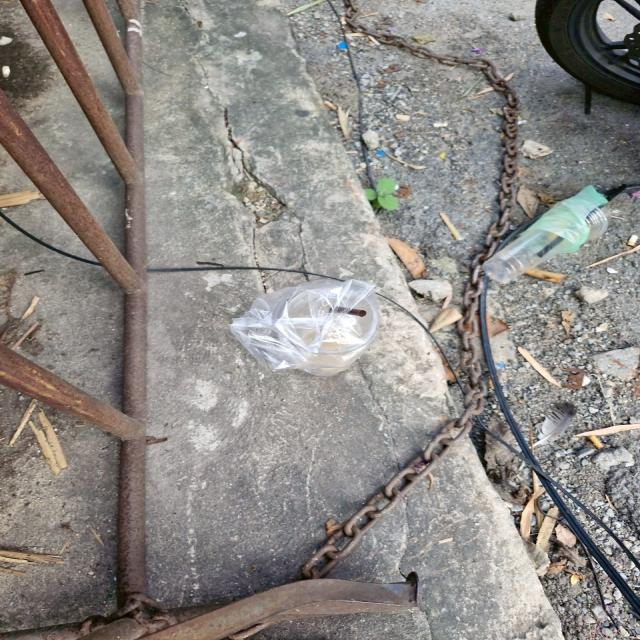plastic cup: (241, 277, 383, 381), (487, 178, 613, 284)
